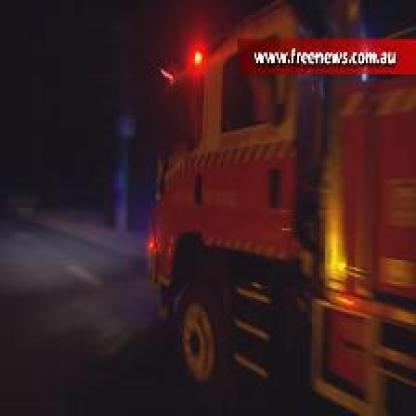other: (316, 166, 357, 292), (169, 31, 216, 80)
